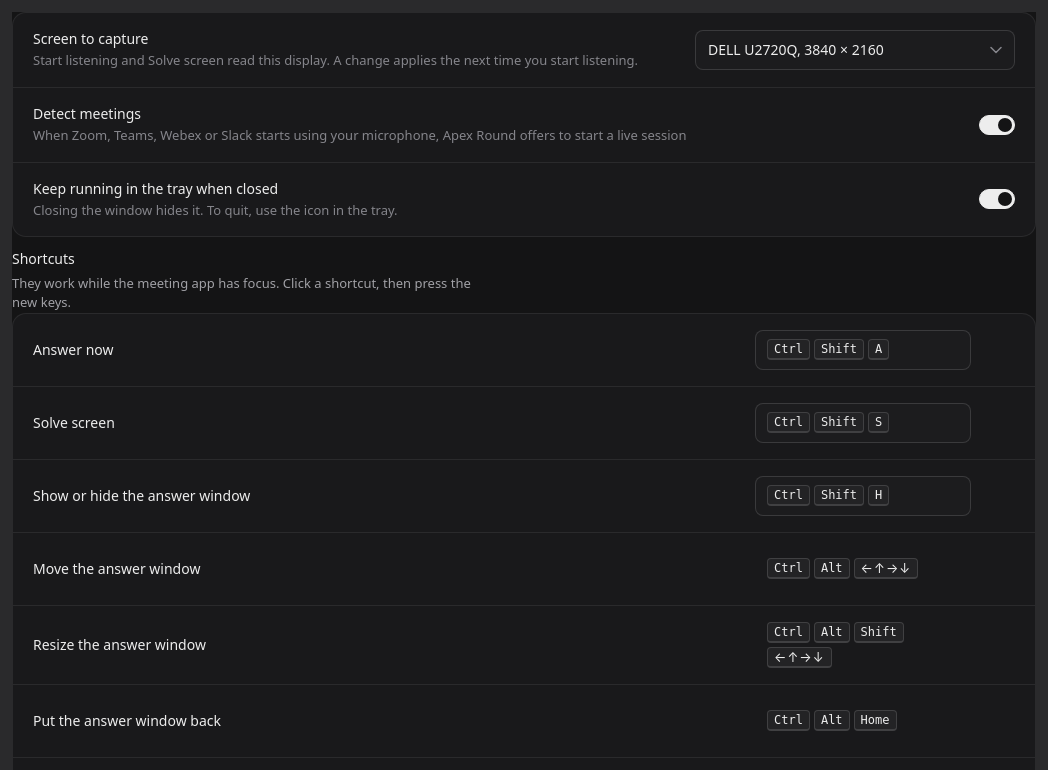
DesktopSettings › Esc cancels, Backspace clears, and Reset brings the default back
Step 1. Click the button named "Show or hide the answer window: Ctrl+Shift+H. Change the shortcut" → [863, 496], box [755,476,971,516]
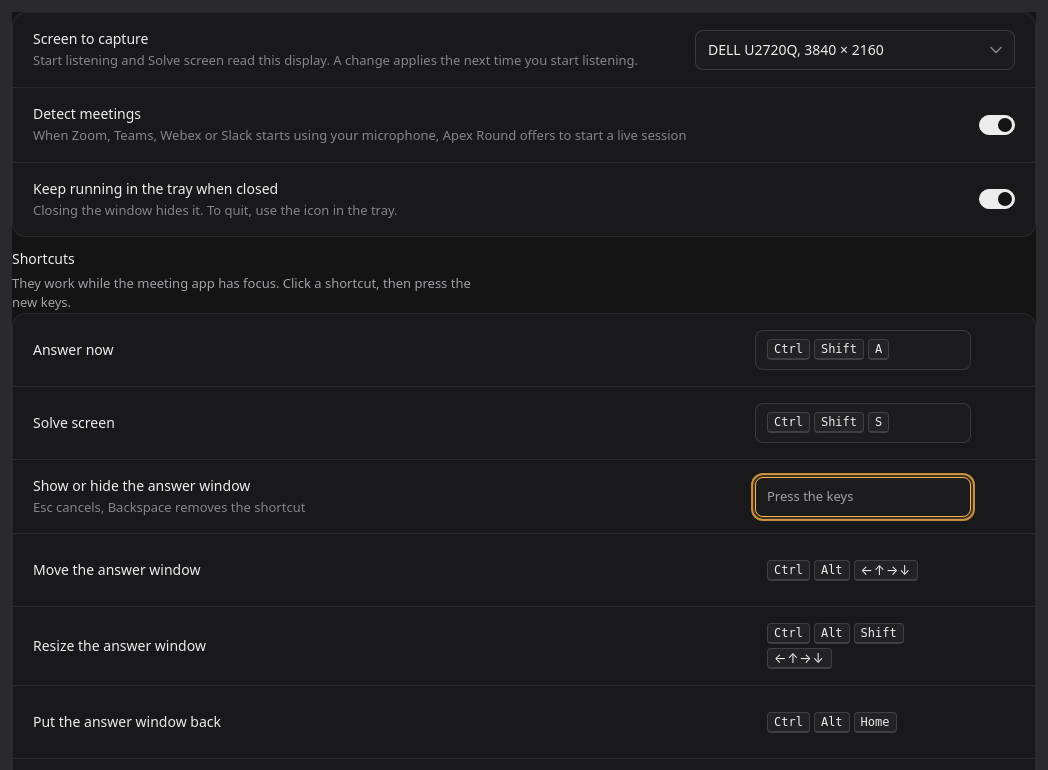
Step 2. Press Escape in the button named "Show or hide the answer window: Ctrl+Shift+H. Change the shortcut", box [755,477,971,517]
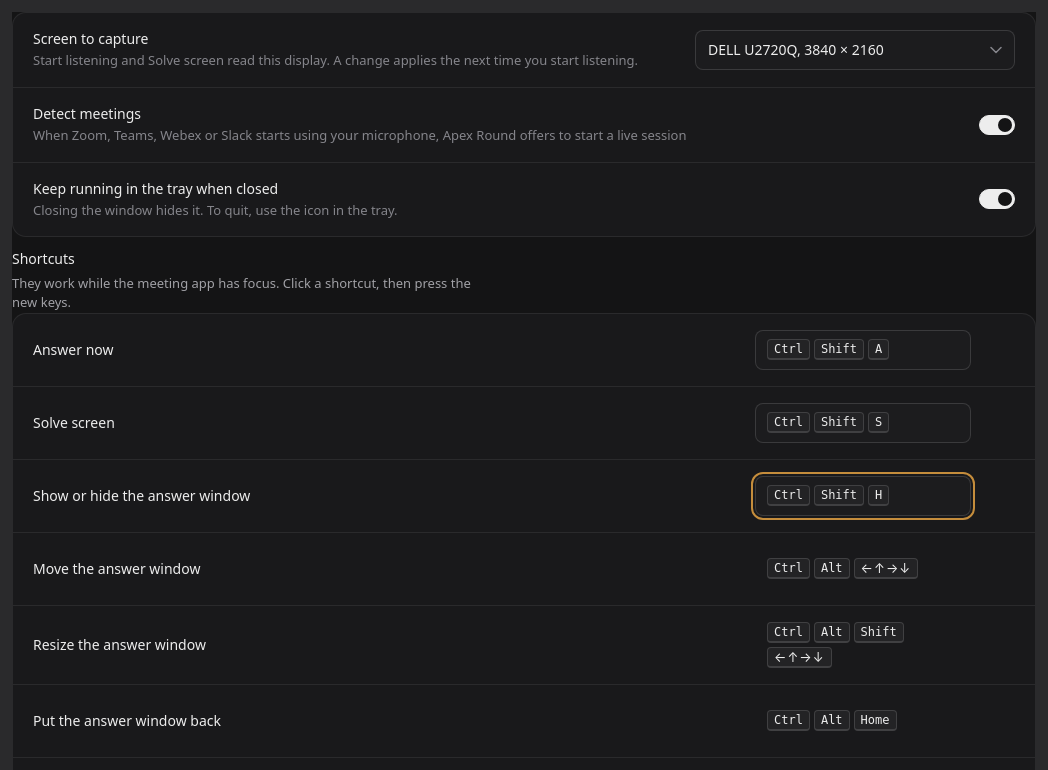
Check: the button named "Show or hide the answer window: Ctrl+Shift+H. Change the shortcut" is not pressed
Step 3. Click the button named "Show or hide the answer window: Ctrl+Shift+H. Change the shortcut" → [863, 496], box [755,476,971,516]
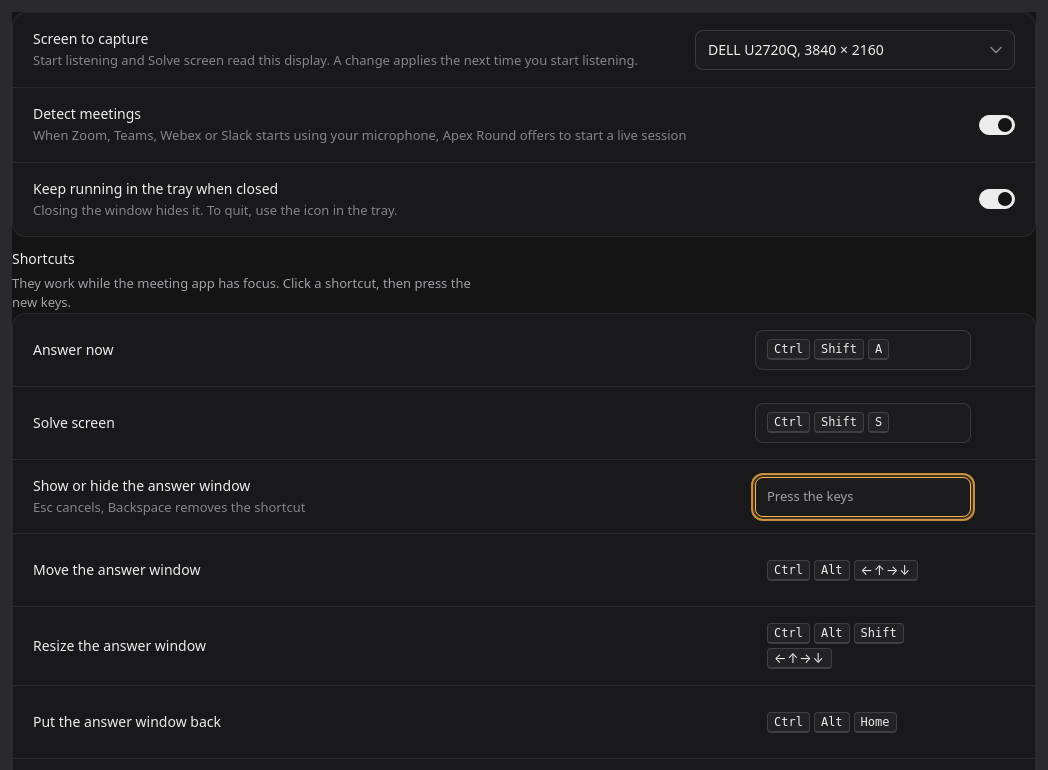
Step 4. Press Backspace in the button named "Show or hide the answer window: Ctrl+Shift+H. Change the shortcut", box [755,477,971,517]
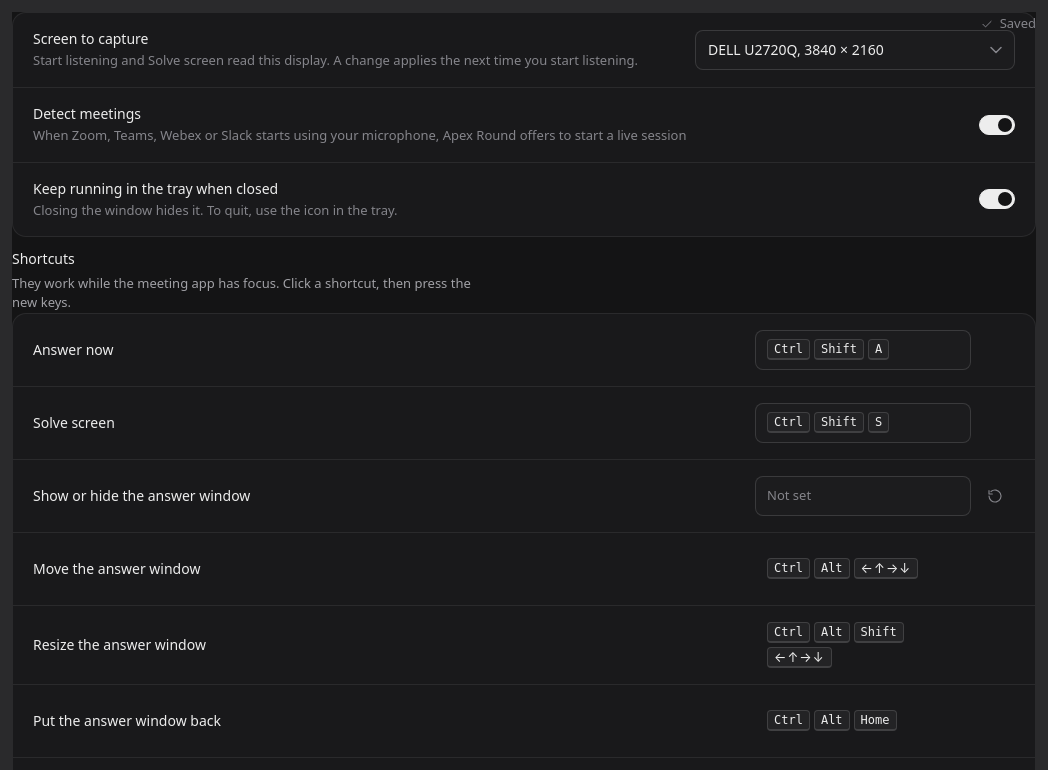
Check: the button with aria-label "Show or hide the answer window: no shortcut. Set one" reads "Not set", box [755,476,971,516]
Step 5. Click the button named "Reset Show or hide the answer window to Ctrl+Shift+H" → [995, 496], box [975,476,1015,516]
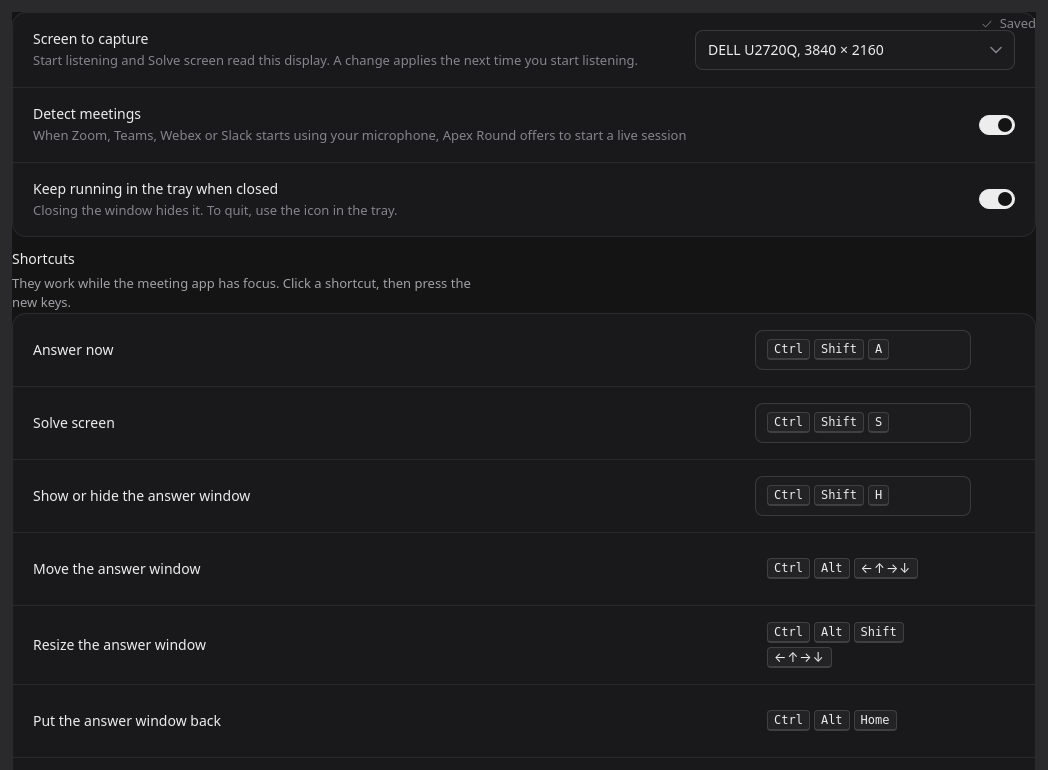
Check: the button named "Show or hide the answer window: Ctrl+Shift+H. Change the shortcut" is shown, box [755,476,971,516]
